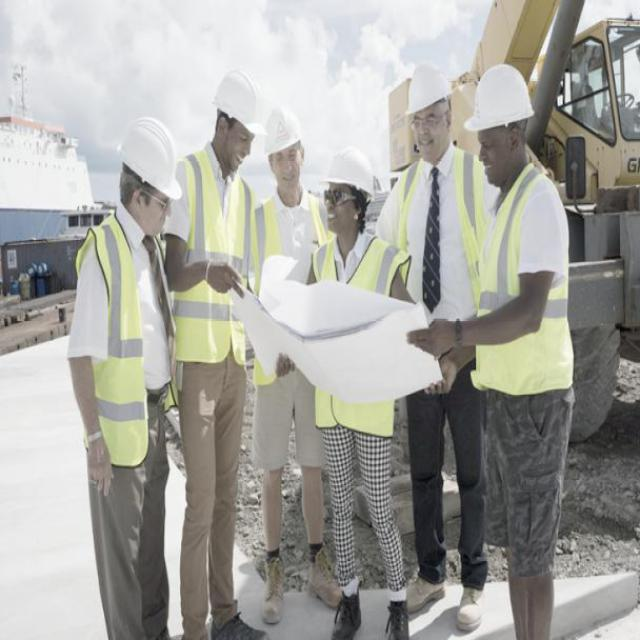helmet: (110, 103, 189, 234), (466, 52, 535, 199), (202, 52, 261, 172), (262, 93, 313, 215), (326, 133, 375, 250), (403, 64, 456, 161)
vest: (468, 180, 570, 386), (75, 219, 158, 454), (179, 134, 249, 352), (400, 156, 480, 283), (323, 224, 410, 311), (307, 387, 401, 440)
